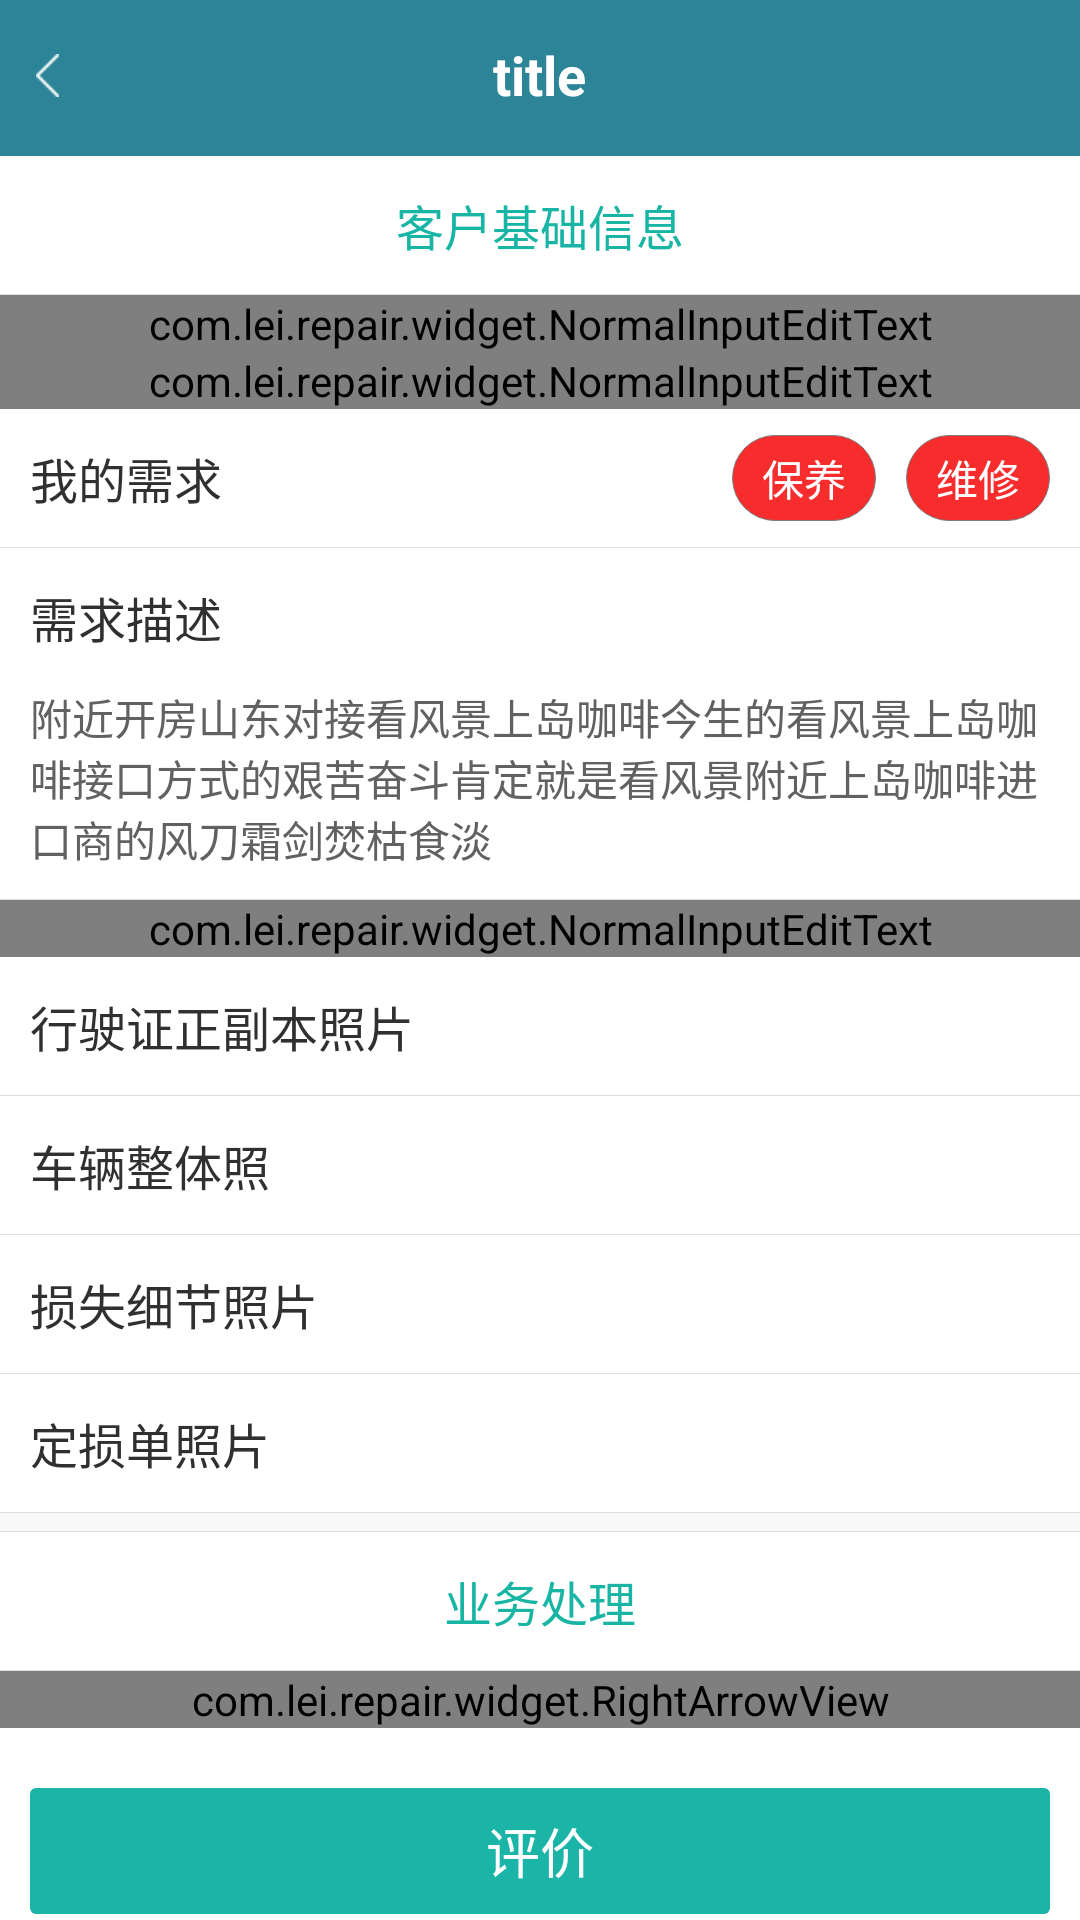

Named icons in this screenshot (1080 × 1920) and their centers, (x=x, y=y):
re baclk: (x=47, y=75)
